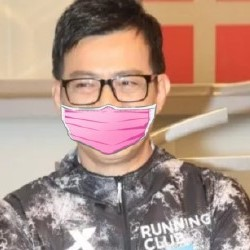mask: (45, 79, 168, 169)
